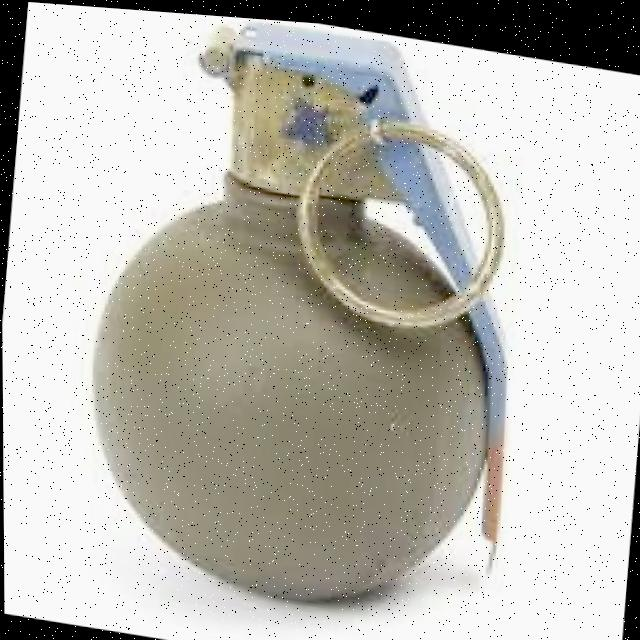grenade: (50, 3, 540, 630)
